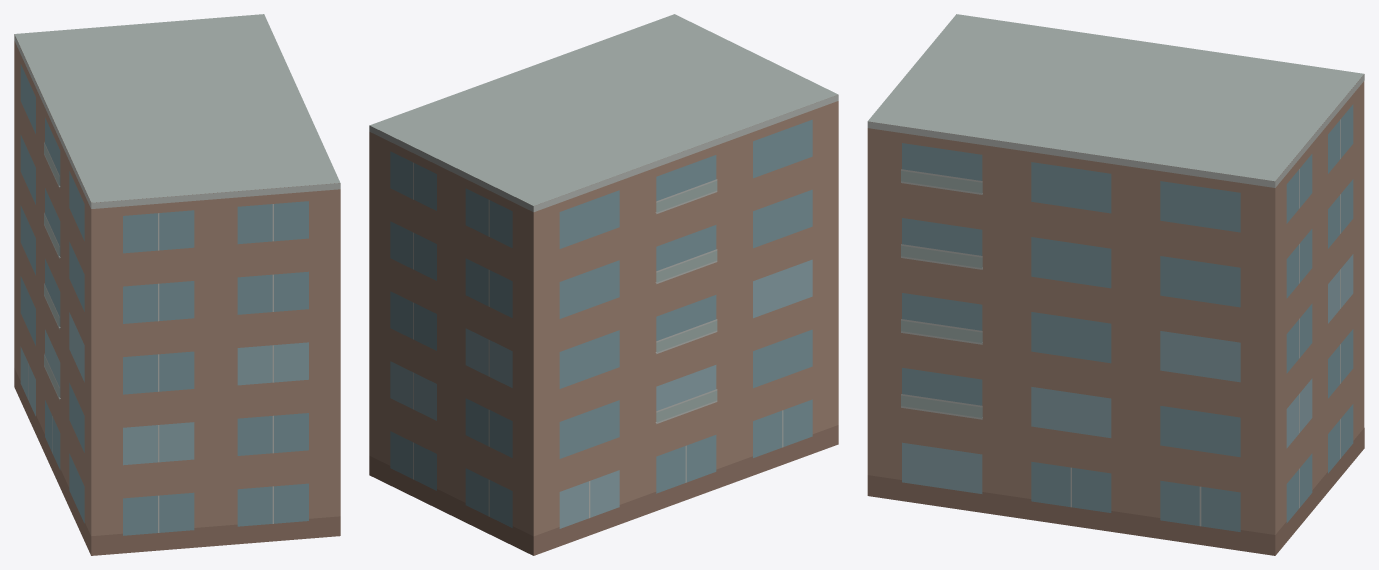
Rendered from survey-upis-32795741.glb.
3 renders of one model, left to right at view 1: azimuth 30°, elevation 25°; view 2: azimuth 150°, elevation 25°; view 3: azimuth 270°, elevation 25°, orthographic. The views are drawn at different scales.
Visible parts, largest first — view 1: survey-upis-32795741.tmp; view 2: survey-upis-32795741.tmp; view 3: survey-upis-32795741.tmp.
Boxes of the visible parts, left/top/right/bottom form: survey-upis-32795741.tmp: left=14, top=14, right=340, bottom=555; survey-upis-32795741.tmp: left=369, top=14, right=838, bottom=555; survey-upis-32795741.tmp: left=867, top=14, right=1364, bottom=555.
Size of the model in its own units: 13.04 by 13.6 by 16.36.
